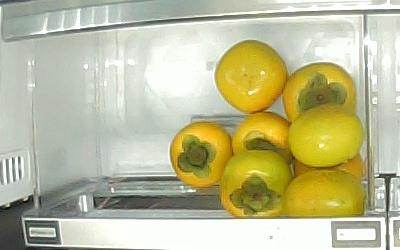persimmon: (215, 38, 288, 114), (220, 149, 293, 218), (288, 102, 364, 167), (283, 62, 356, 125), (168, 120, 233, 188), (282, 168, 365, 216), (232, 113, 292, 162), (292, 152, 363, 180)
